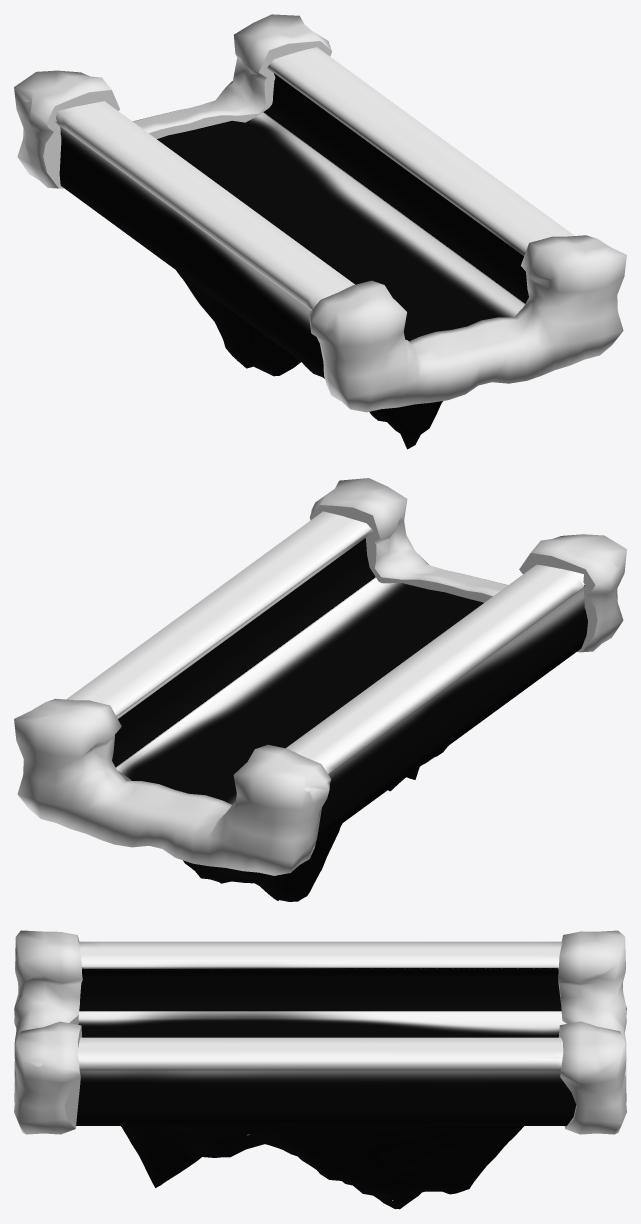
File: StoneBridge.fbx
The picture shows the model from 3 angles, top to bottom: view 1: azimuth 30°, elevation 25°; view 2: azimuth 150°, elevation 25°; view 3: azimuth 270°, elevation 25°; orthographic projection. The views are drawn at different scales.
Visible parts, largest first — view 1: Bridge; view 2: Bridge; view 3: Bridge.
Boxes of the visible parts, x1,y1,x2,y2 form: Bridge: [14, 14, 626, 449]; Bridge: [14, 478, 626, 901]; Bridge: [14, 930, 626, 1209].
Bounding box in the file's own units: 118 × 91.05 × 227.
Materials: 2 (1 with a texture image).
